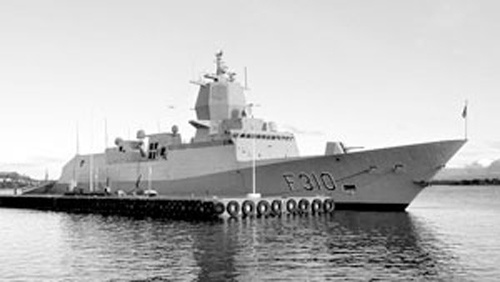warship: (14, 46, 481, 214)
